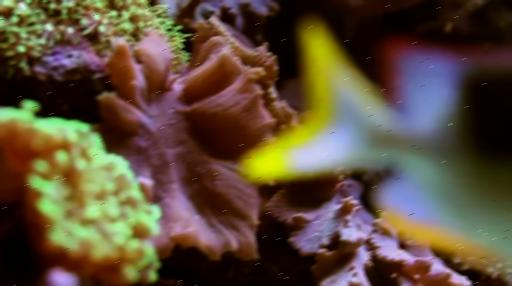Fish: (239, 15, 511, 259)
